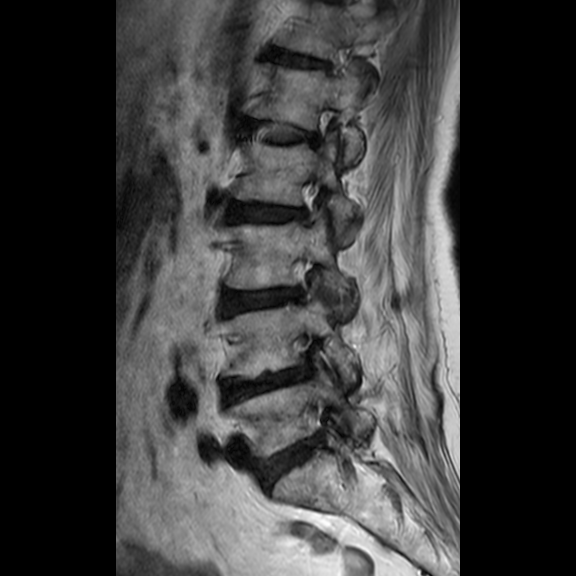LFS0: (285, 168, 330, 235)
LFS1: (281, 249, 326, 316)
